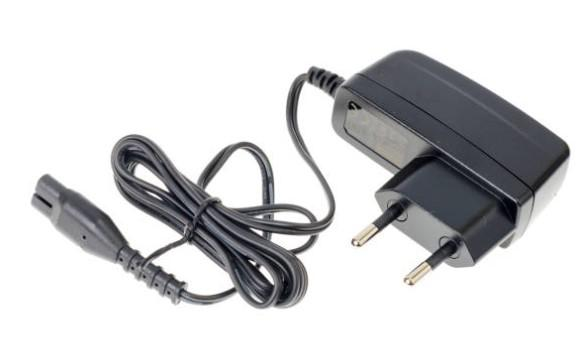cable: (31, 50, 570, 308)
